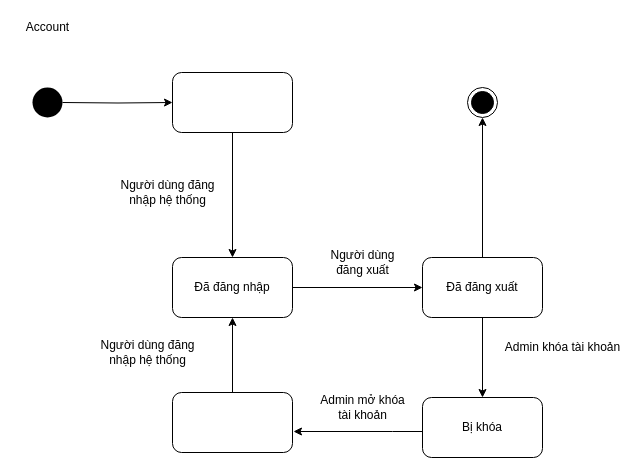
The diagram is 644 pixels wide and 475 high, and some of its shapes have lost their labels. The centre of each missing label's shape, as x and y in pixels:
Đã mở khóa: the point at 232,422
Đã tạo: the point at 232,102
